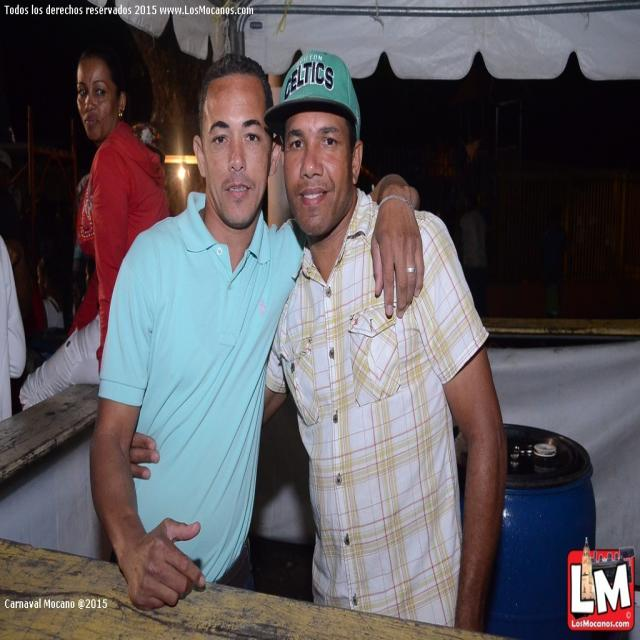Hat: (261, 47, 361, 146)
